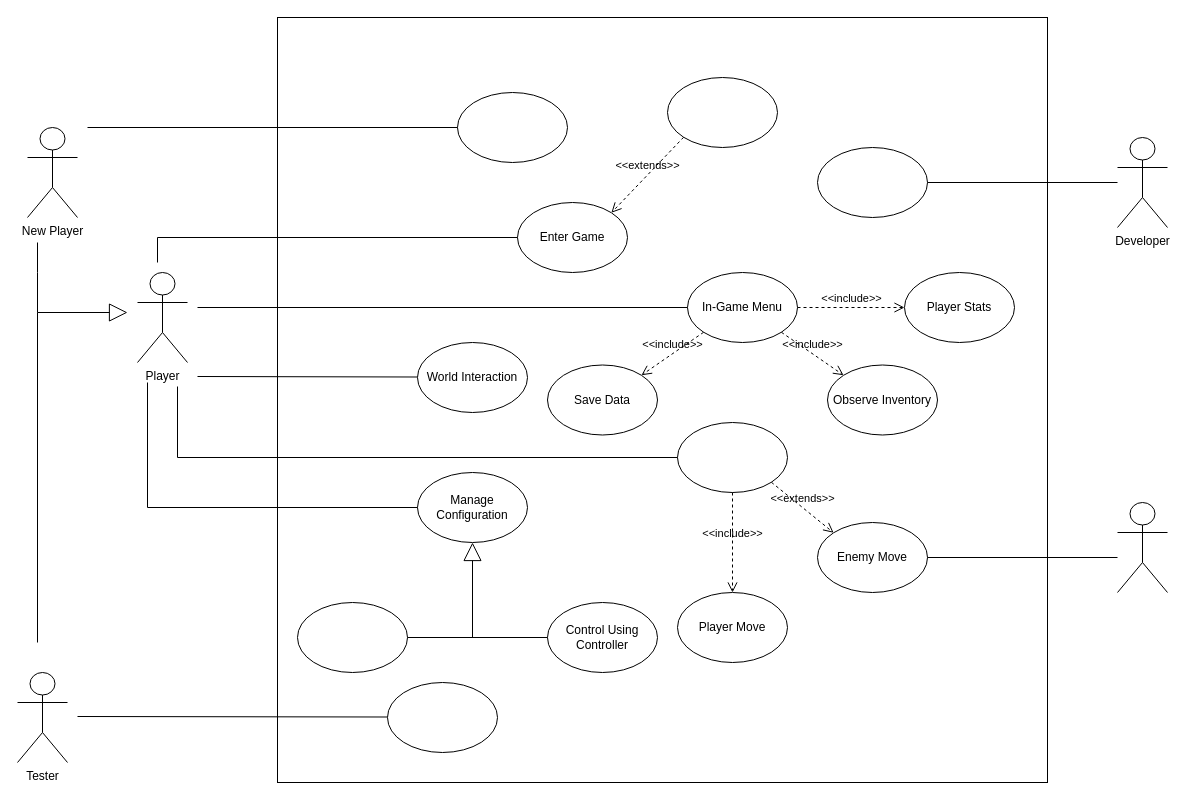
Image size: 1187x801. Some labels were removed from this diagram. The centre of each missing label's shape, as x and y in pixels:
"Control Using Keyboard" goes at point 352,637.
"Create New Game" goes at point 512,127.
"Load Data" goes at point 722,112.
"Patch Game" goes at point 872,182.
"Report Bug" goes at point 442,717.
"System" goes at point 1142,547.
"Turn Base Battle" goes at point 732,457.
